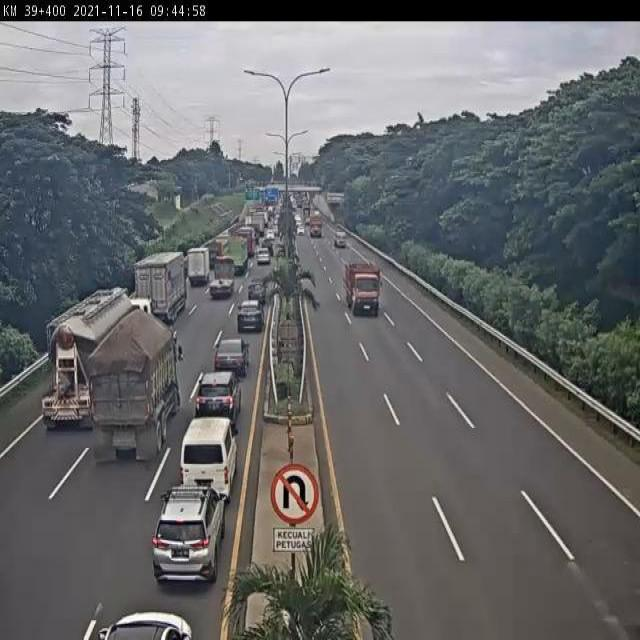car: (151, 488, 224, 581), (195, 375, 235, 424), (213, 343, 246, 377), (235, 303, 262, 336), (246, 283, 264, 308)
small bus: (179, 420, 237, 497)
truck-l-: (93, 319, 179, 460), (137, 250, 184, 322), (224, 236, 249, 272)
truck-m-: (345, 264, 380, 315), (209, 256, 238, 299), (186, 244, 211, 285)
truck-xl-: (40, 292, 148, 428)
